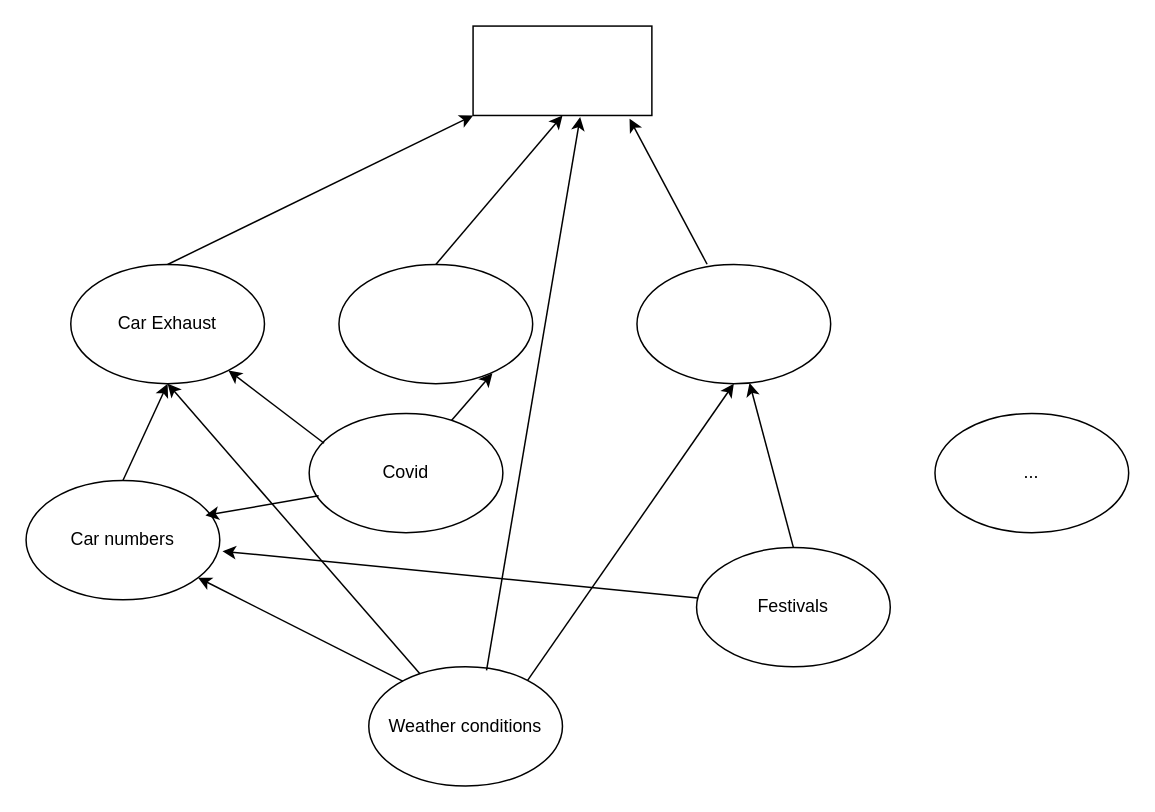
This 1155x812 diagram has some shape labels left out. Here are the shapes that lost their labels. From the top down, the centre of each, then its label:
At (x=562, y=70): "Air Quality".
At (x=435, y=323): "Industries".
At (x=733, y=323): "Subway Grates".
